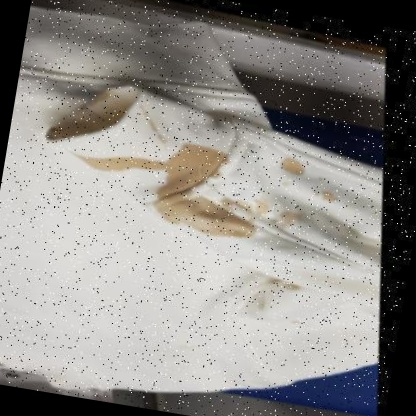coffee: (161, 195, 255, 238), (98, 151, 173, 179), (170, 148, 215, 187), (281, 157, 305, 176)
